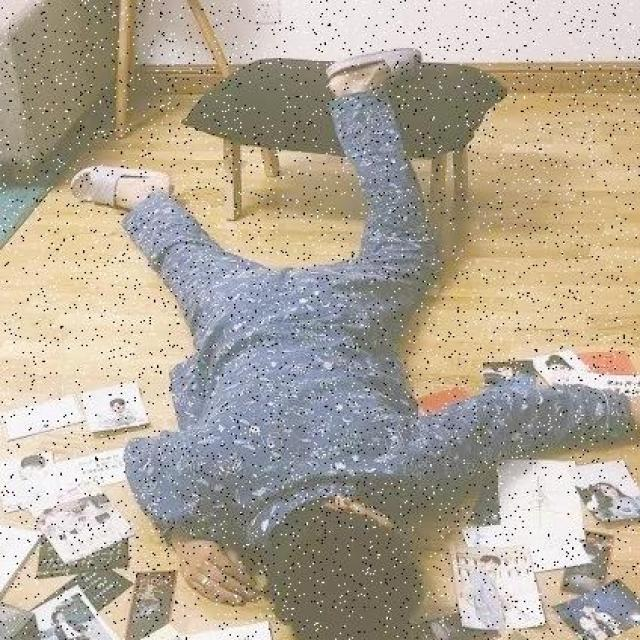fall: (145, 73, 509, 618)
